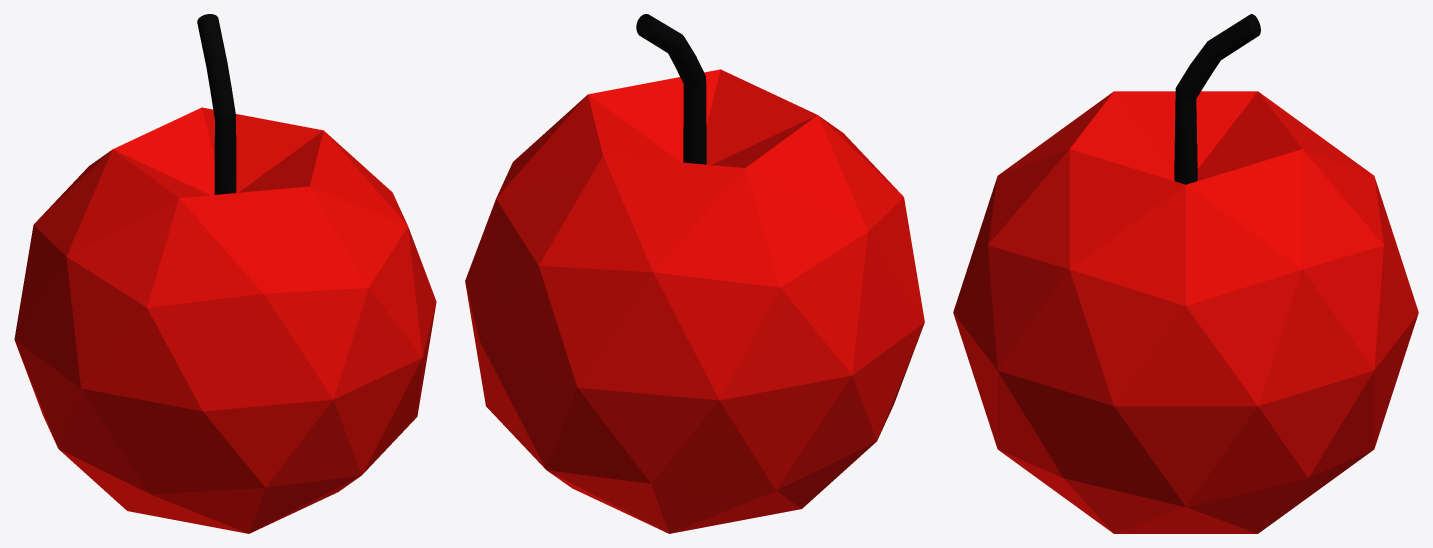
Rendered from apple.fbx.
3 renders of one model, left to right at view 1: azimuth 30°, elevation 25°; view 2: azimuth 150°, elevation 25°; view 3: azimuth 270°, elevation 25°, orthographic. The views are drawn at different scales.
Visible parts, largest first — view 1: Icosphere, Cylinder; view 2: Icosphere, Cylinder; view 3: Icosphere, Cylinder.
Boxes of the visible parts, x1,y1,x2,y2 form: Icosphere: (14,107,436,533); Cylinder: (197,14,236,194); Icosphere: (465,69,924,533); Cylinder: (636,14,706,164); Icosphere: (953,91,1418,533); Cylinder: (1174,14,1260,184).
Bounding box in the file's own units: 70.87 × 90.99 × 74.52.
